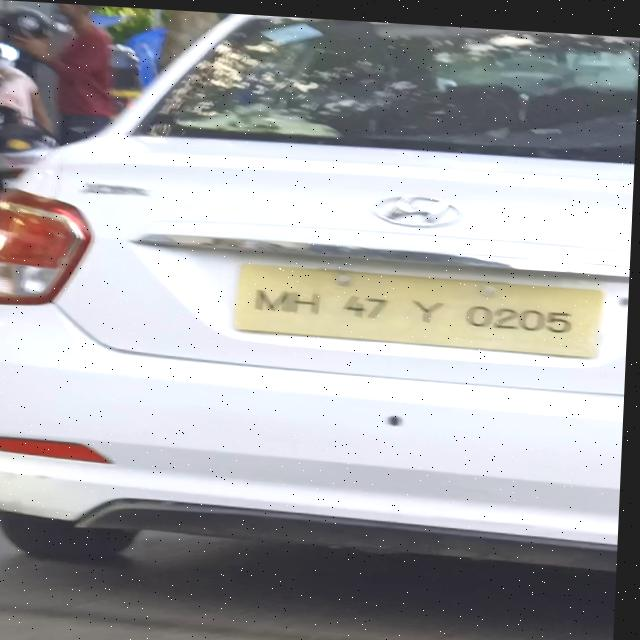plate: (234, 258, 608, 352)
